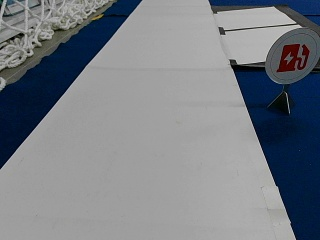battery: (265, 26, 318, 84)
